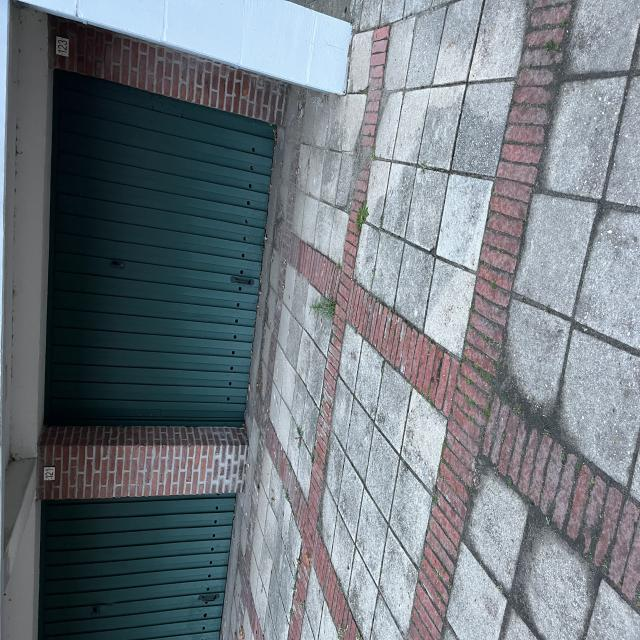weed: (241, 411, 259, 449), (308, 472, 326, 493), (193, 293, 211, 302)
weedling: (220, 455, 260, 489)
